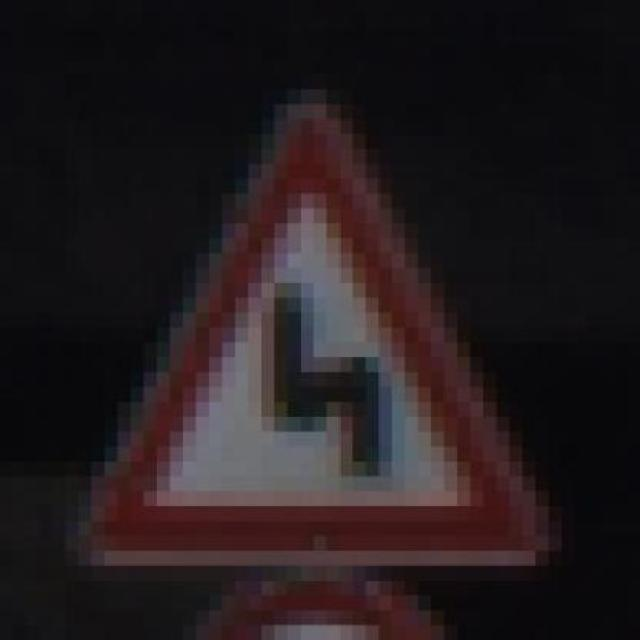Left Zig Zag Traffic: (79, 89, 562, 580)
